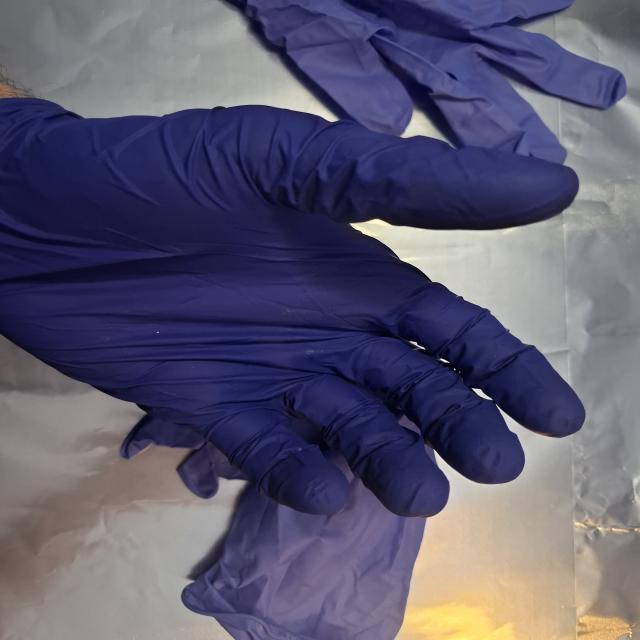glove_on: (0, 96, 591, 521)
